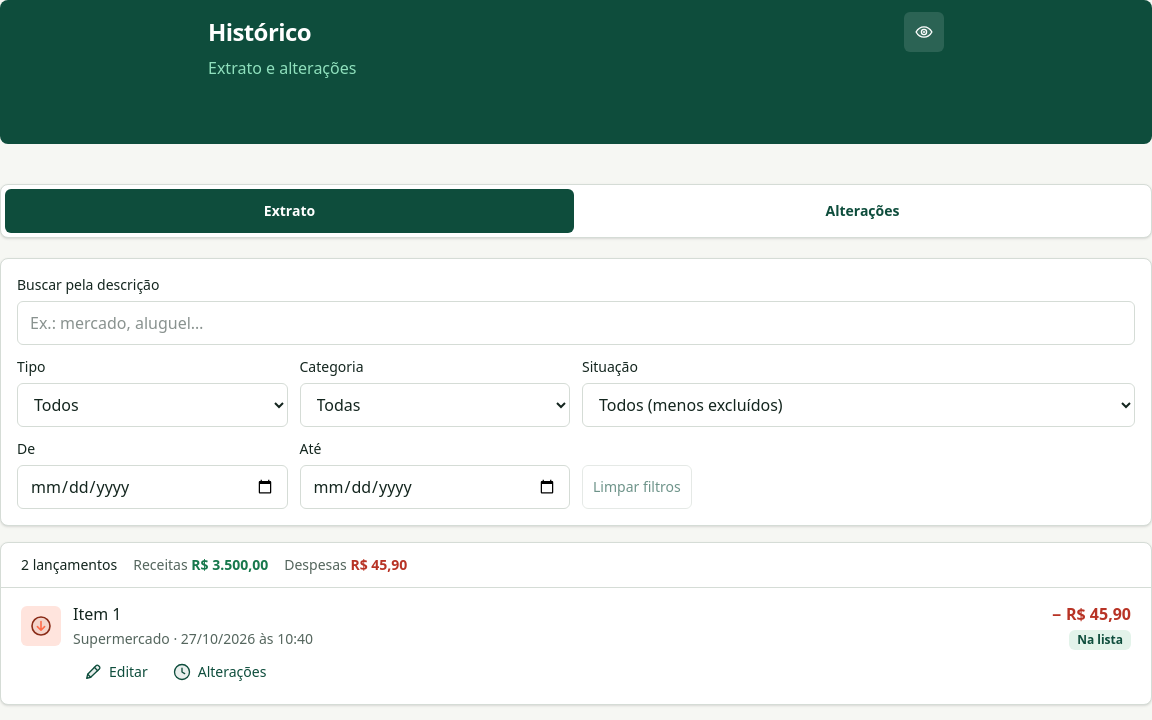
Histórico: extrato › tipo, categoria, situação e datas viram parâmetros; trocar o tipo limpa categoria que não combina; Limpar filtros volta ao início
Expected: the text "Item 1" is shown, left=73, top=603, right=122, bottom=625
Expected: the button "Limpar filtros" is disabled, left=582, top=465, right=692, bottom=509
Select "Despesas" in the dropdown labelled "Tipo" at (152, 405), box left=17, top=383, right=288, bottom=427
Select "Supermercado" in the dropdown labelled "Categoria" at (435, 405), box left=300, top=383, right=570, bottom=427
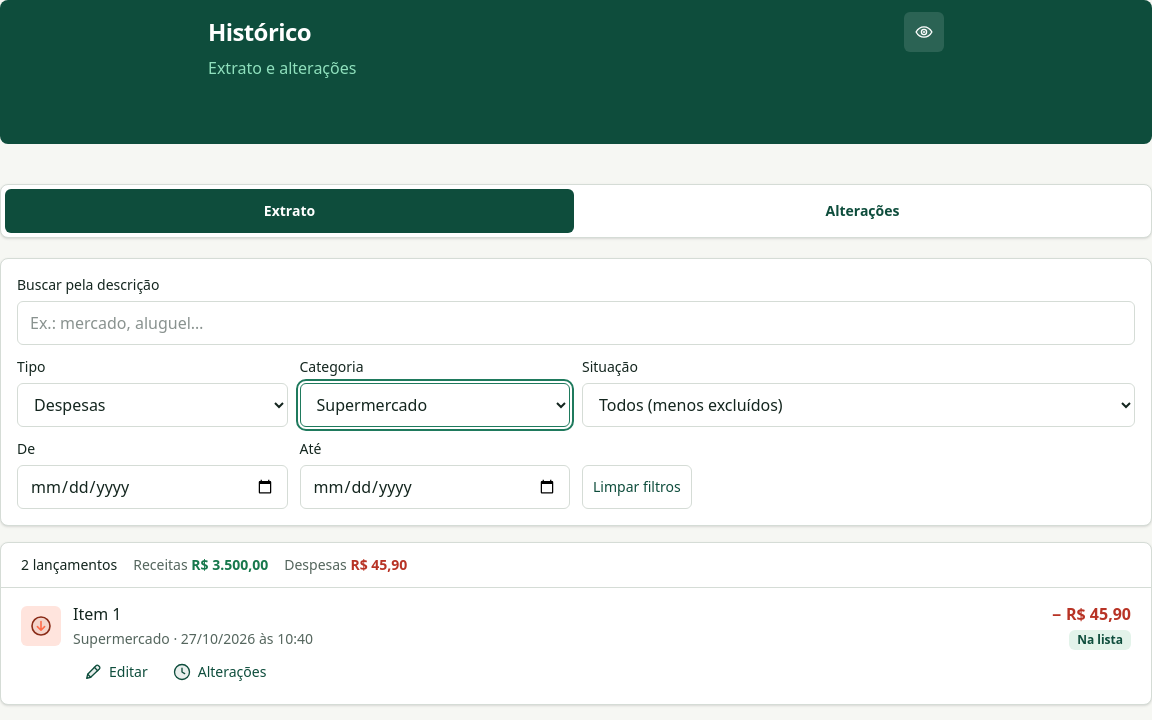
Select "Arquivados" in the dropdown labelled "Situação" at (858, 405), box left=582, top=383, right=1135, bottom=427
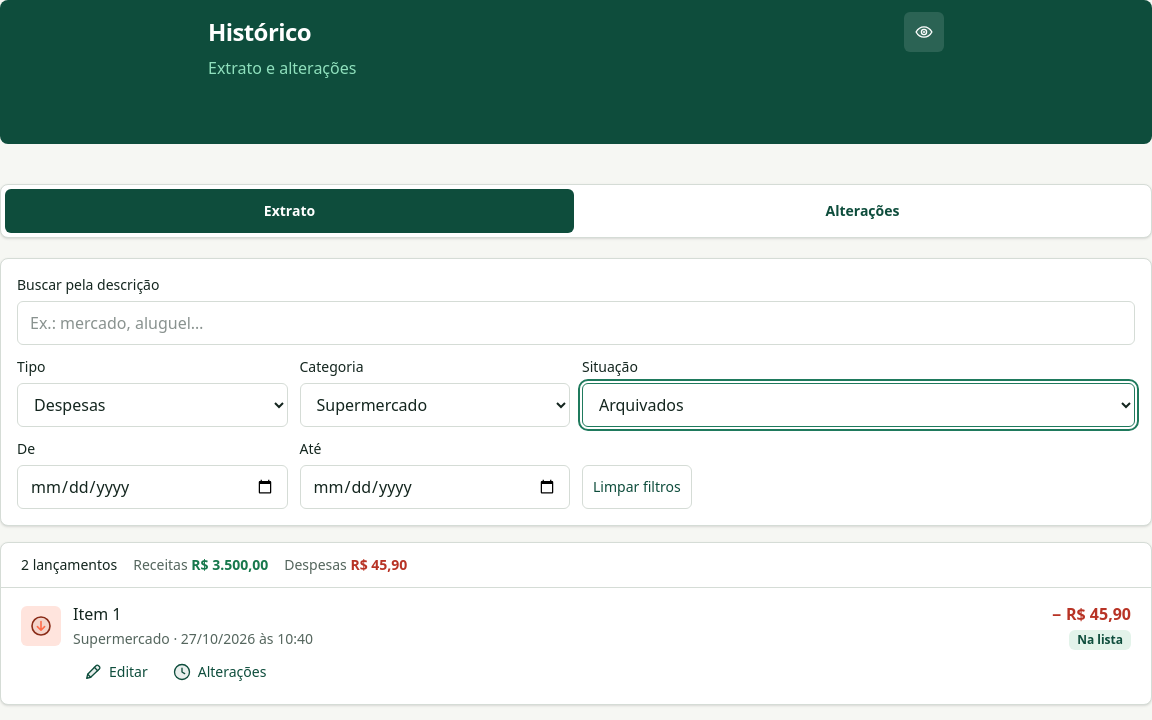
Type "2026-10-01" into the date field labelled "De" at (152, 487), box left=17, top=465, right=288, bottom=509
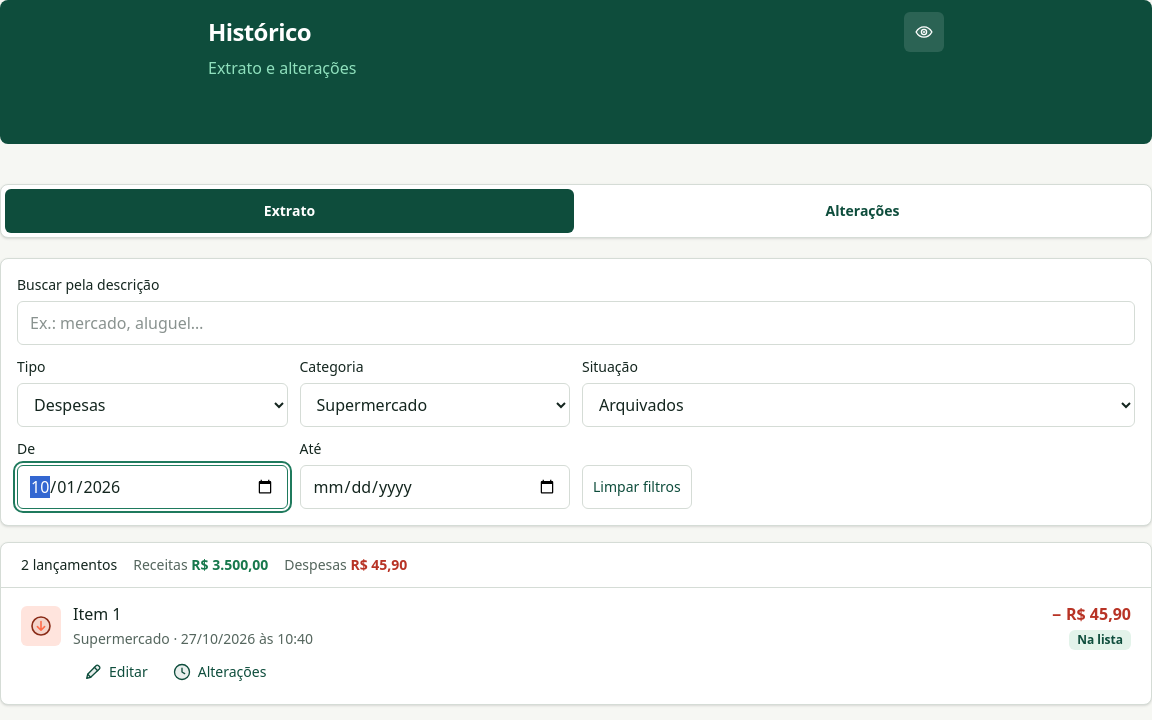
Type "2026-10-31" into the date field labelled "Até" at (435, 487), box left=300, top=465, right=570, bottom=509
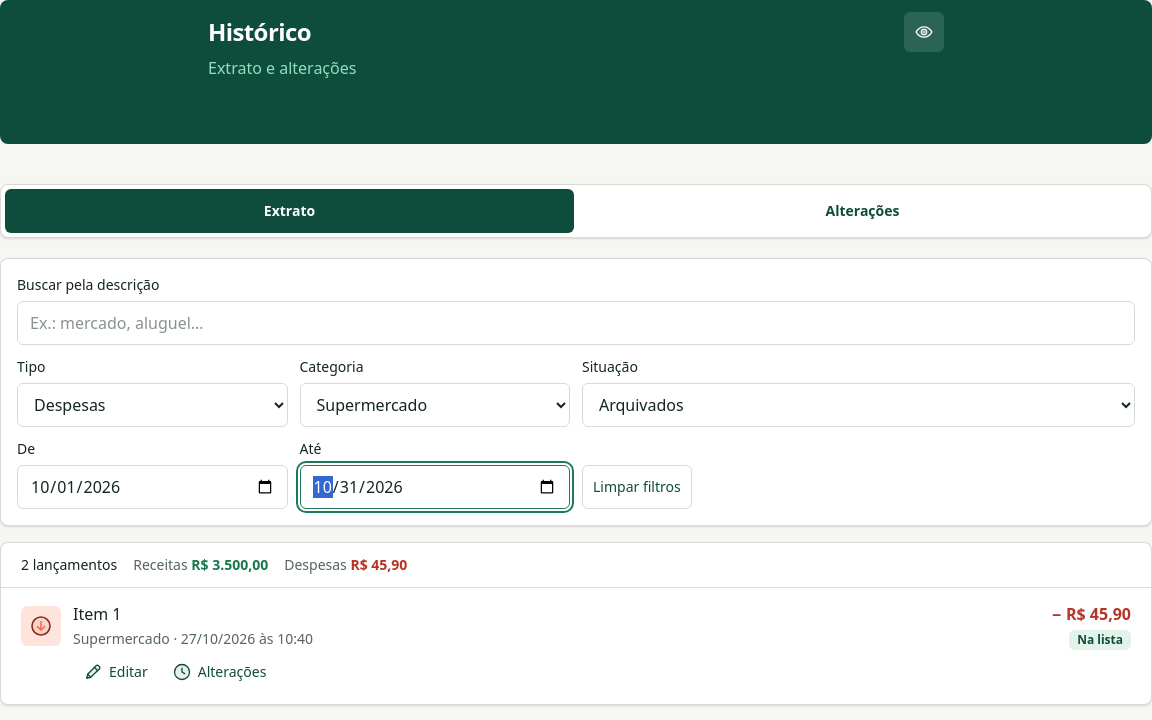
Select "Receitas" in the dropdown labelled "Tipo" at (152, 405), box left=17, top=383, right=288, bottom=427
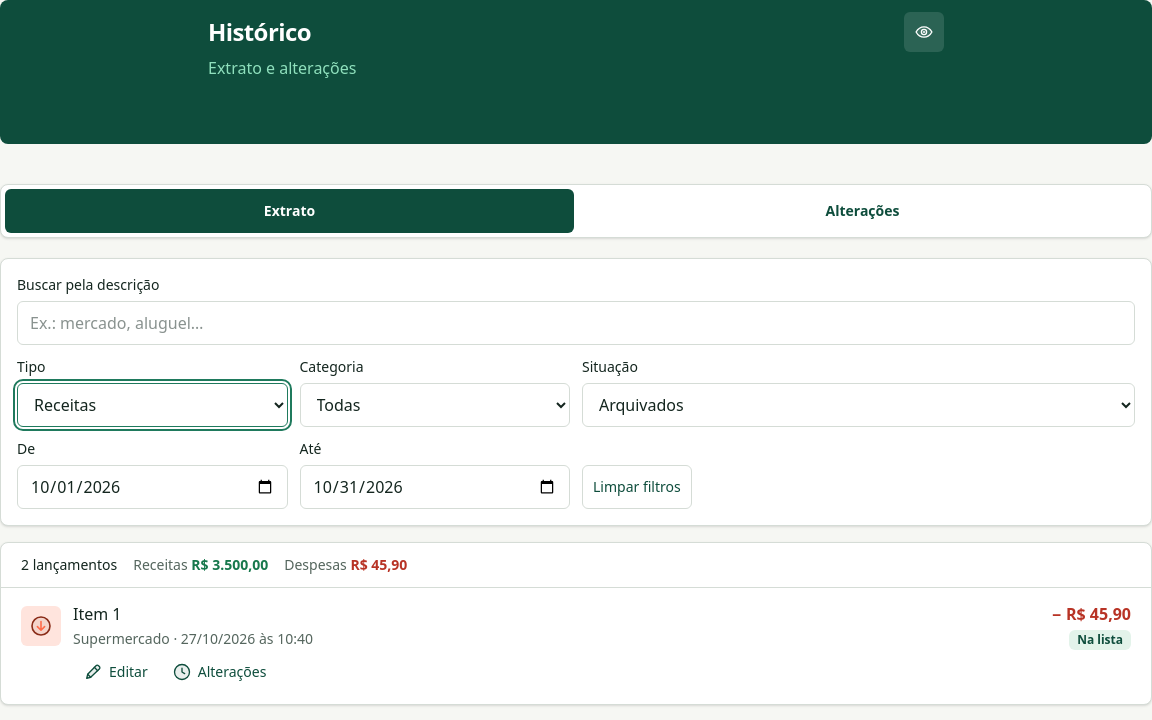
Click the button "Limpar filtros" at (637, 487), box left=582, top=465, right=692, bottom=509
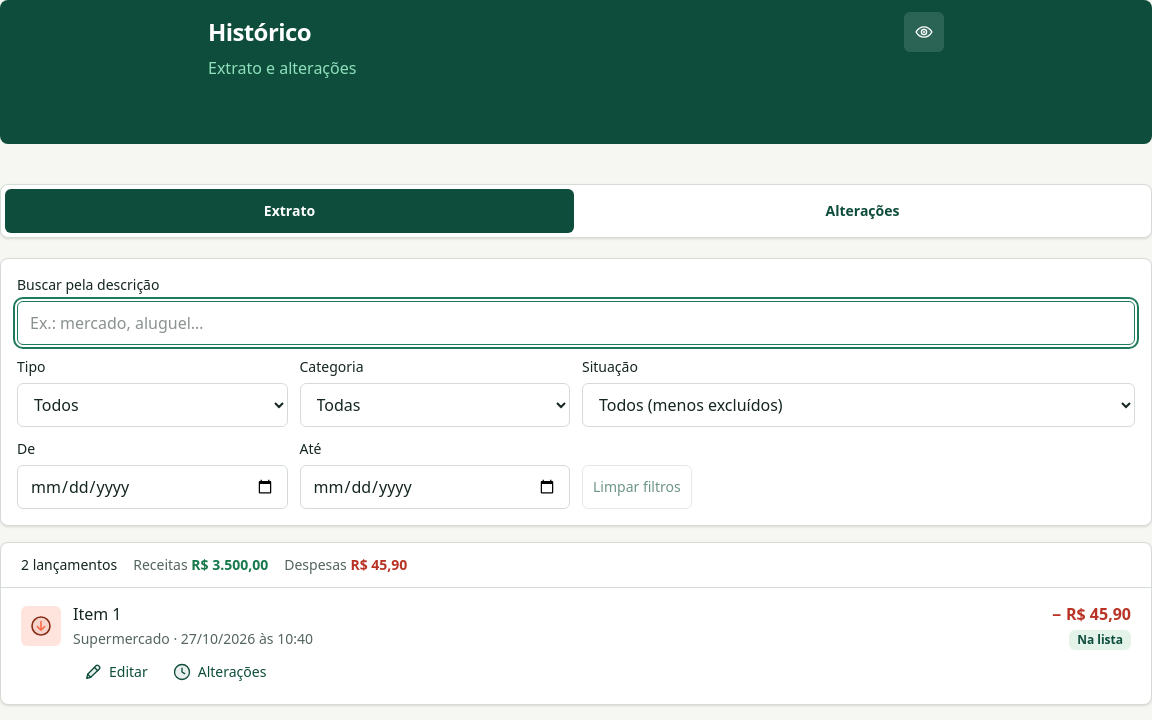
Result: the date field labelled "De" is empty at left=17, top=465, right=288, bottom=509
